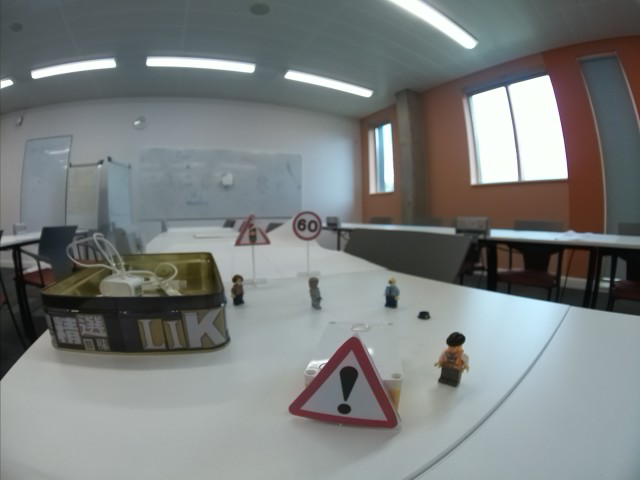60mph: (292, 210, 321, 241)
Lego Man: (436, 331, 469, 388), (382, 277, 404, 309), (306, 276, 323, 310), (230, 273, 248, 303)
Traffic lights: (234, 217, 271, 245)
Warning: (284, 343, 401, 428)
